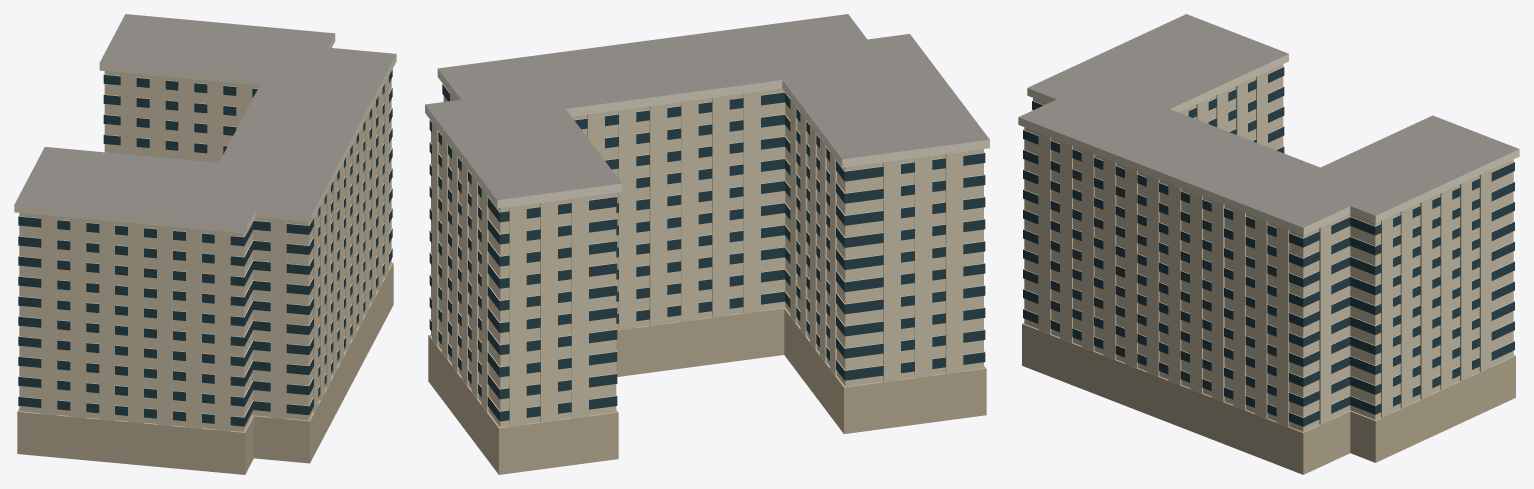
Rendered from residence_inn_las_vega_w205497576.glb.
3 views of the same model, side by side, from view 1: azimuth 30°, elevation 25°; view 2: azimuth 150°, elevation 25°; view 3: azimuth 270°, elevation 25° (orthographic). The views are drawn at different scales.
Parts seen in each view (by area): view 1: HotelHughesCenter; view 2: HotelHughesCenter; view 3: HotelHughesCenter.
Part boxes in pixels (x1,y1,x2,y2): HotelHughesCenter: (14, 14, 396, 474); HotelHughesCenter: (425, 14, 989, 474); HotelHughesCenter: (1018, 14, 1519, 474).
Bounding box in the file's own units: 72.34 × 39.2 × 71.63.
